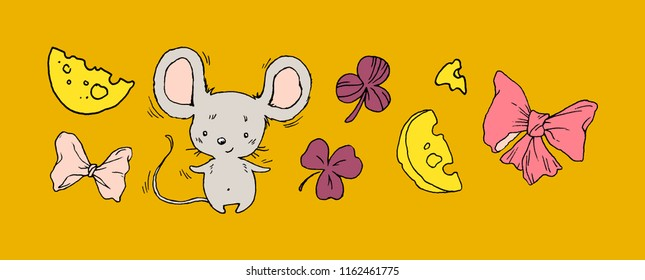animal: (141, 44, 318, 230)
